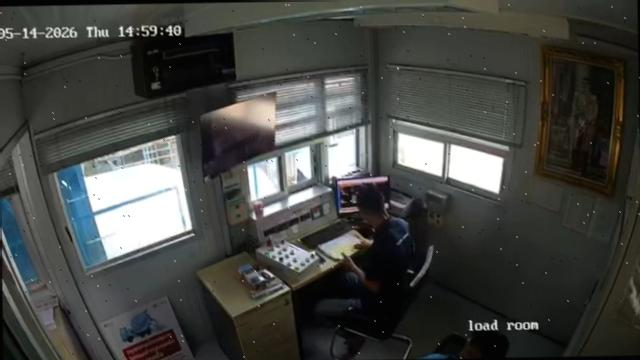Head: (350, 185, 396, 230), (453, 330, 510, 358)
People: (314, 187, 414, 318), (458, 330, 509, 357)
